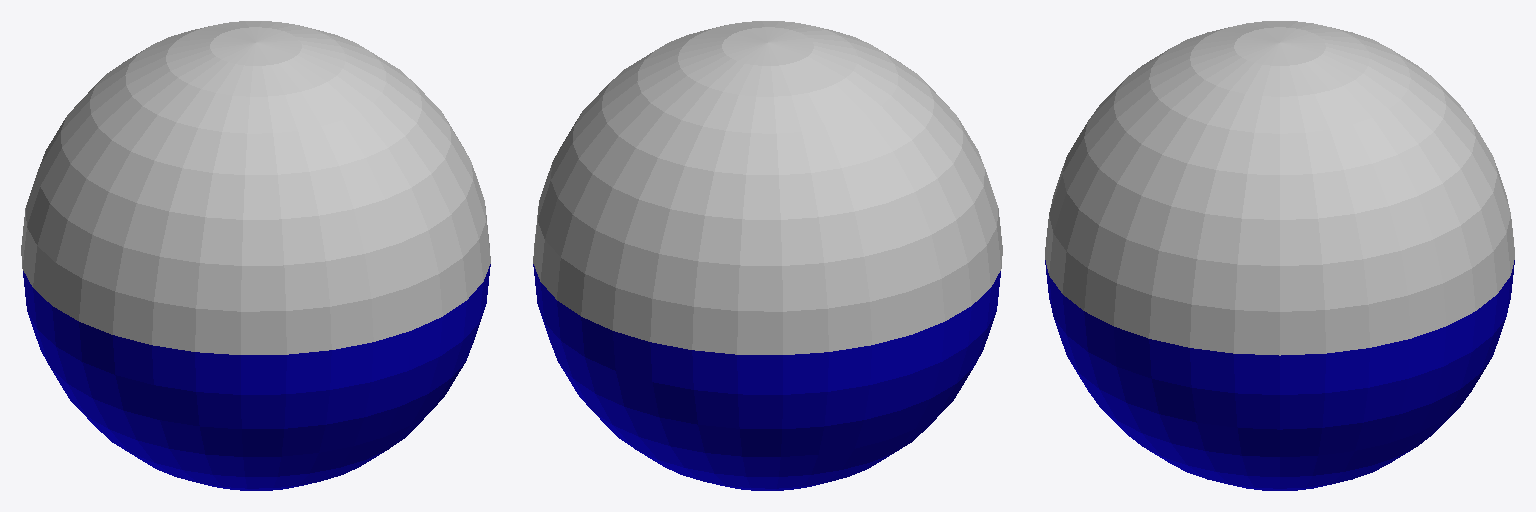
The model's file is blob2.obj.
The picture shows the model from 3 angles: view 1: azimuth 30°, elevation 25°; view 2: azimuth 150°, elevation 25°; view 3: azimuth 270°, elevation 25°; orthographic projection.
Parts seen in each view (by area): view 1: Blob; view 2: Blob; view 3: Blob.
Boxes of the visible parts, <box> form: Blob: <box>21,21,490,490</box>; Blob: <box>533,21,1002,490</box>; Blob: <box>1045,21,1514,490</box>.
Size of the model in its own units: 2 by 2 by 2.